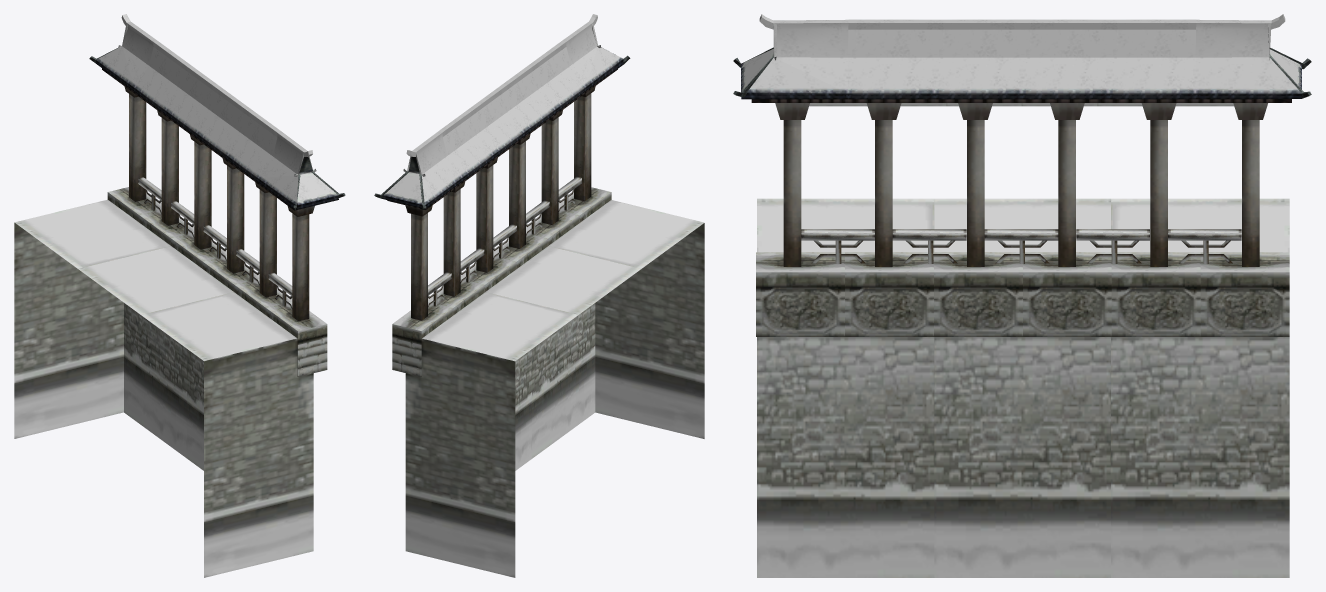
File: general_obj_watchtower01.fbx
3 views of the same model, side by side, from view 1: azimuth 30°, elevation 25°; view 2: azimuth 150°, elevation 25°; view 3: azimuth 270°, elevation 25° (orthographic). The views are drawn at different scales.
Visible parts, largest first — view 1: general_obj_watchtower02, general_obj_watchtower01; view 2: general_obj_watchtower02, general_obj_watchtower01; view 3: general_obj_watchtower02, general_obj_watchtower01.
Part boxes in pixels (bbox=[...]): general_obj_watchtower02: bbox=[14, 199, 313, 577]; general_obj_watchtower01: bbox=[89, 14, 345, 376]; general_obj_watchtower02: bbox=[403, 169, 704, 577]; general_obj_watchtower01: bbox=[374, 14, 630, 376]; general_obj_watchtower02: bbox=[757, 57, 1289, 577]; general_obj_watchtower01: bbox=[733, 14, 1311, 336].
Size of the model in its own units: 7.37 by 21.01 by 19.63.
